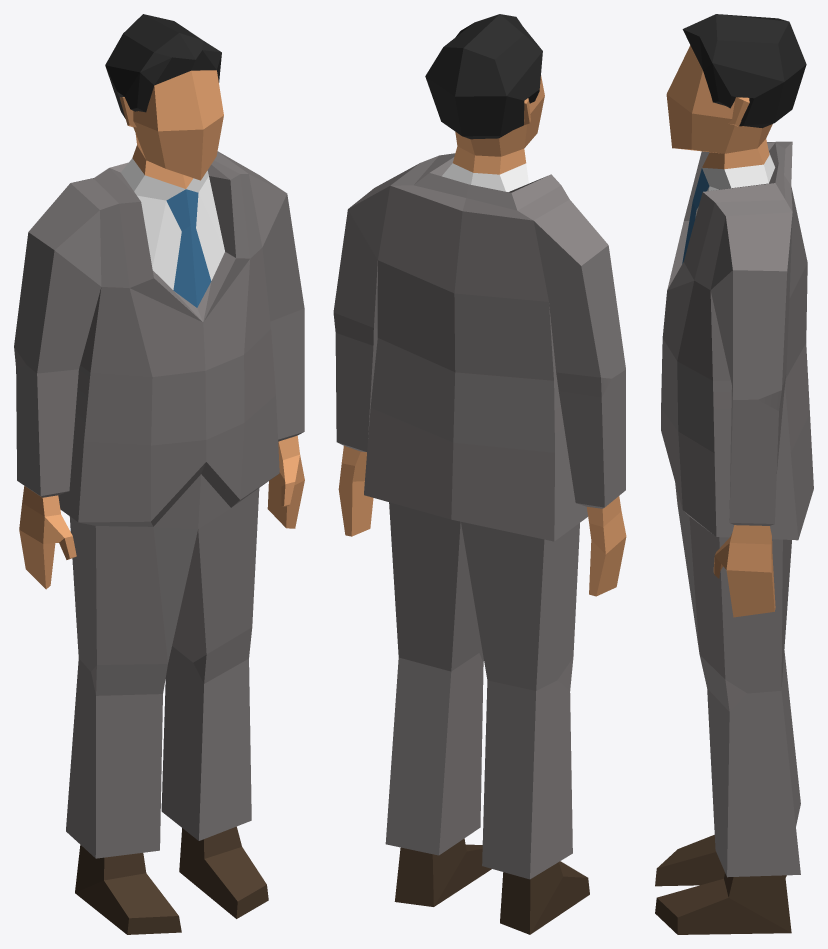
Rendered from people_man-suit.fbx.
3 views of the same model, side by side, from view 1: azimuth 30°, elevation 25°; view 2: azimuth 150°, elevation 25°; view 3: azimuth 270°, elevation 25° (orthographic).
Visible parts, largest first — view 1: people_man_suit; view 2: people_man_suit; view 3: people_man_suit.
Boxes of the visible parts, <box> form: people_man_suit: <box>14,14,304,934</box>; people_man_suit: <box>333,14,626,934</box>; people_man_suit: <box>655,14,813,934</box>.
Bounding box in the file's own units: 64.26 × 200 × 32.52.
